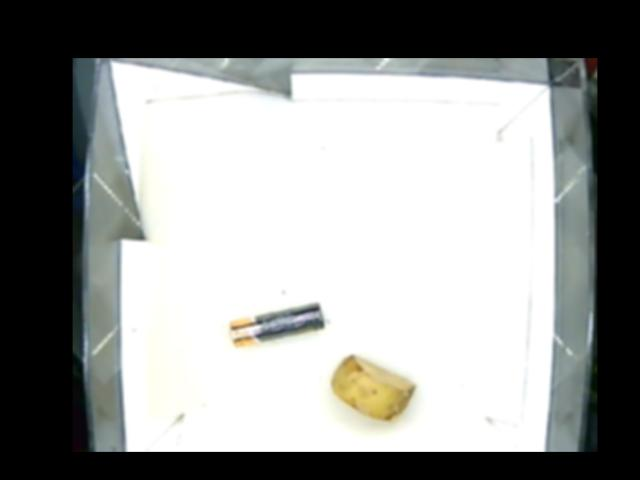Battery: (225, 303, 325, 348)
Potato: (329, 355, 416, 422)
